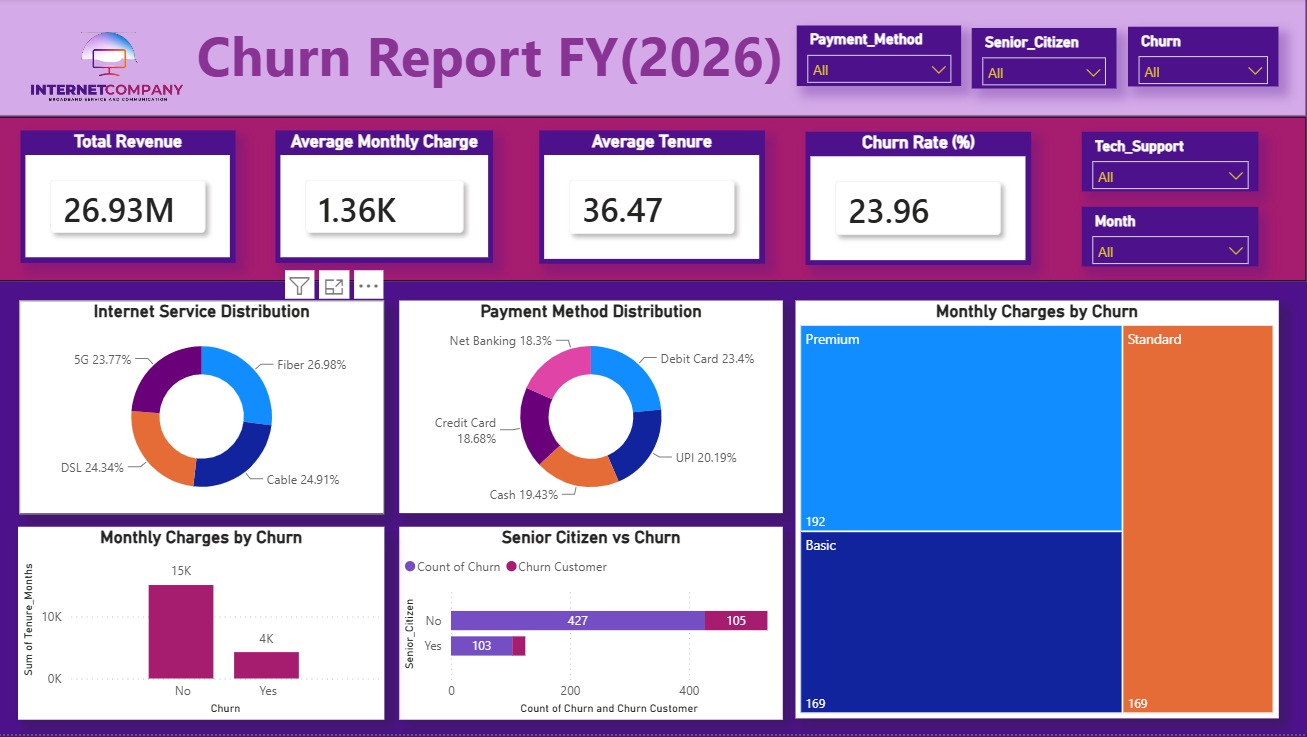

This screenshot's page, from the dashboard's own definition file:
{"tool":"powerbi","page":{"name":"Page 2","canvas":[1280,720],"ordinal":1},"visuals":[{"type":"shape","box":[0,0,1279.7,115.4],"z":0},{"type":"image","box":[10,10,200.5,115.4],"z":1000},{"type":"textbox","box":[189,13,591.5,88],"z":2000},{"type":"slicer","fields":{"Values":["customer_churn_db customer_data.Payment_Method"]},"box":[781.2,27.4,161.1,59.3],"z":3000},{"type":"slicer","fields":{"Values":["customer_churn_db customer_data.Senior_Citizen"]},"box":[952.9,28.9,141.3,59.3],"z":4000},{"type":"shape","box":[0,115.9,1280,160.8],"z":5000},{"type":"slicer","fields":{"Values":["customer_churn_db customer_data.Churn"]},"box":[1105.3,27.8,146.9,58.7],"z":6000},{"type":"cardVisual","title":"Total Revenue","fields":{"Data":["Sum(customer_churn_db customer_data.Total_Charges)"]},"box":[21.6,129.4,210.6,129.4],"z":7000},{"type":"cardVisual","title":"Average Monthly Charge","fields":{"Data":["Avg(customer_churn_db customer_data.Monthly_Charges)"]},"box":[271.5,129.4,213.2,129.4],"z":8000},{"type":"cardVisual","title":"Average Tenure ","fields":{"Data":["Avg(customer_churn_db customer_data.Tenure_Months)"]},"box":[529.1,129.4,220.8,130.7],"z":9000},{"type":"cardVisual","title":"Churn Rate (%)","fields":{"Data":["customer_churn_db customer_data.Churn Rate(%)"]},"box":[790.5,130.7,220.8,130.7],"z":10000},{"type":"slicer","fields":{"Values":["customer_churn_db customer_data.Tech_Support"]},"box":[1060.5,131.4,173.1,58.7],"z":11000},{"type":"slicer","fields":{"Values":["customer_churn_db customer_data.Last_Interaction_Date.Variation.Date Hierarchy.Month"]},"box":[1060.5,204.1,173.1,58.7],"z":12000},{"type":"donutChart","title":"Internet Service Distribution","fields":{"Category":["customer_churn_db customer_data.Internet_Service"],"Y":["CountNonNull(customer_churn_db customer_data.Internet_Service)"]},"box":[21.3,296.4,357.2,208.2],"z":12001},{"type":"donutChart","title":"Payment Method Distribution ","fields":{"Category":["customer_churn_db customer_data.Payment_Method"],"Y":["CountNonNull(customer_churn_db customer_data.Payment_Method)"]},"box":[392.1,296.4,375.4,208.2],"z":12002},{"type":"barChart","title":"Senior Citizen vs Churn ","fields":{"Category":["customer_churn_db customer_data.Senior_Citizen"],"Y":["CountNonNull(customer_churn_db customer_data.Churn)","customer_churn_db customer_data.Churn Customer"]},"box":[392.1,516.7,375.4,188.5],"z":12003},{"type":"columnChart","title":"Monthly Charges by Churn","fields":{"Category":["customer_churn_db customer_data.Churn"],"Y":["Sum(customer_churn_db customer_data.Tenure_Months)"]},"box":[19.8,516.7,358.7,188.5],"z":12004},{"type":"treemap","title":"Monthly Charges by Churn","fields":{"Group":["customer_churn_db customer_data.Subscription_Type"],"Values":["CountNonNull(customer_churn_db customer_data.Customer_ID)"]},"box":[779.7,296.4,472.7,408.8],"z":12005}]}

Visuals, with their boxes in screenshot pixels (x1, y1, x2, y2), scaled from the page's 1280x720 canvas onto the 1307x737 screenshot:
shape: box(0, 0, 1306, 118)
image: box(10, 10, 215, 128)
textbox: box(193, 13, 797, 103)
slicer - customer_churn_db customer_data.Payment_Method: box(798, 28, 962, 89)
slicer - customer_churn_db customer_data.Senior_Citizen: box(973, 30, 1117, 90)
shape: box(0, 119, 1306, 283)
slicer - customer_churn_db customer_data.Churn: box(1129, 28, 1279, 89)
"Total Revenue" cardVisual: box(22, 132, 237, 265)
"Average Monthly Charge" cardVisual: box(277, 132, 495, 265)
"Average Tenure " cardVisual: box(540, 132, 766, 266)
"Churn Rate (%)" cardVisual: box(807, 134, 1033, 268)
slicer - customer_churn_db customer_data.Tech_Support: box(1083, 135, 1260, 195)
slicer - customer_churn_db customer_data.Last_Interaction_Date.Variation.Date Hierarchy.Month: box(1083, 209, 1260, 269)
"Internet Service Distribution" donutChart: box(22, 303, 386, 517)
"Payment Method Distribution " donutChart: box(400, 303, 784, 517)
"Senior Citizen vs Churn " barChart: box(400, 529, 784, 722)
"Monthly Charges by Churn" columnChart: box(20, 529, 386, 722)
"Monthly Charges by Churn" treemap: box(796, 303, 1279, 722)
